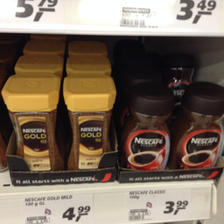coffee: (2, 72, 62, 170), (63, 73, 117, 170), (118, 81, 173, 171), (175, 82, 224, 169)
